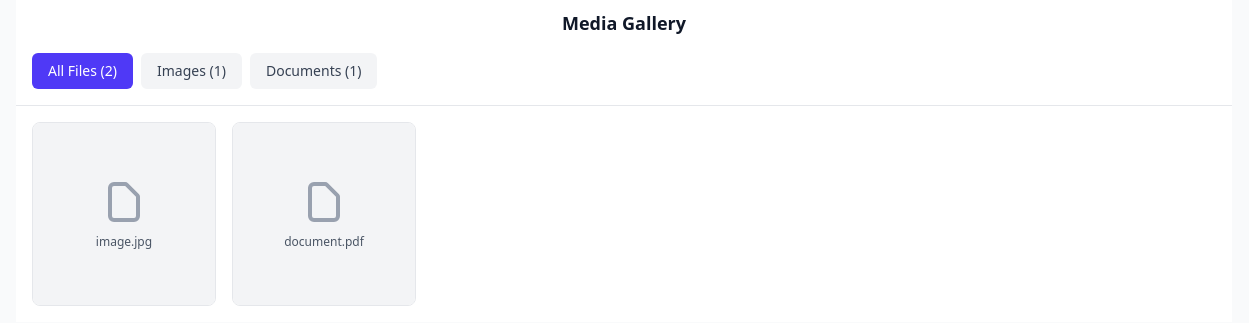
Test case: MediaGallery Component › Type filtering › should filter by documents when Documents filter is selected
The image size is (1249, 323).
Click the tab "Documents (1)" at (314, 71), box [250, 53, 377, 89]
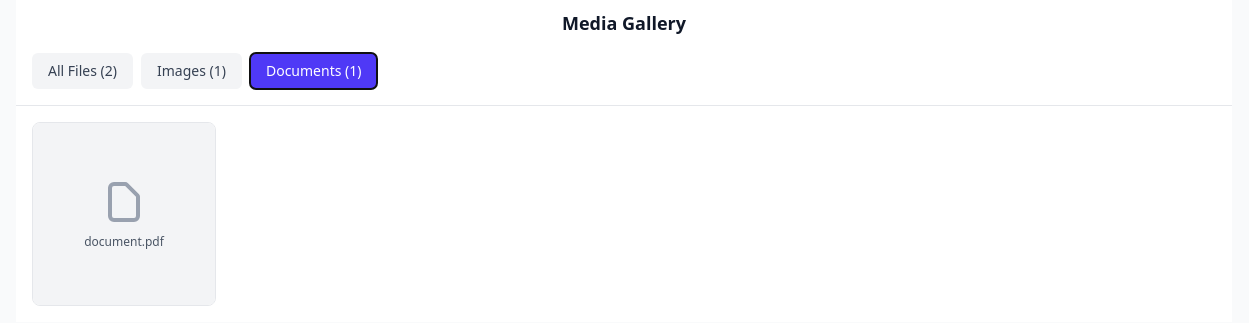
Expected: the number of list items is 1, [32, 122, 216, 306]
